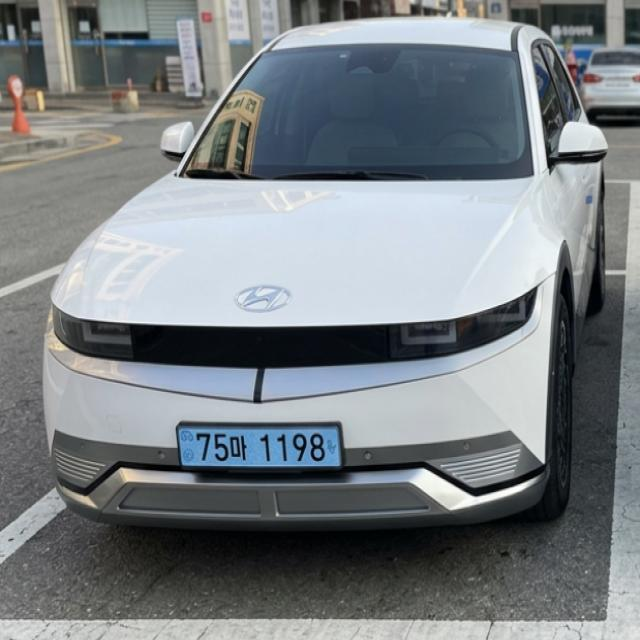car: (170, 415, 349, 479)
carev: (323, 420, 345, 473), (176, 425, 197, 469)
